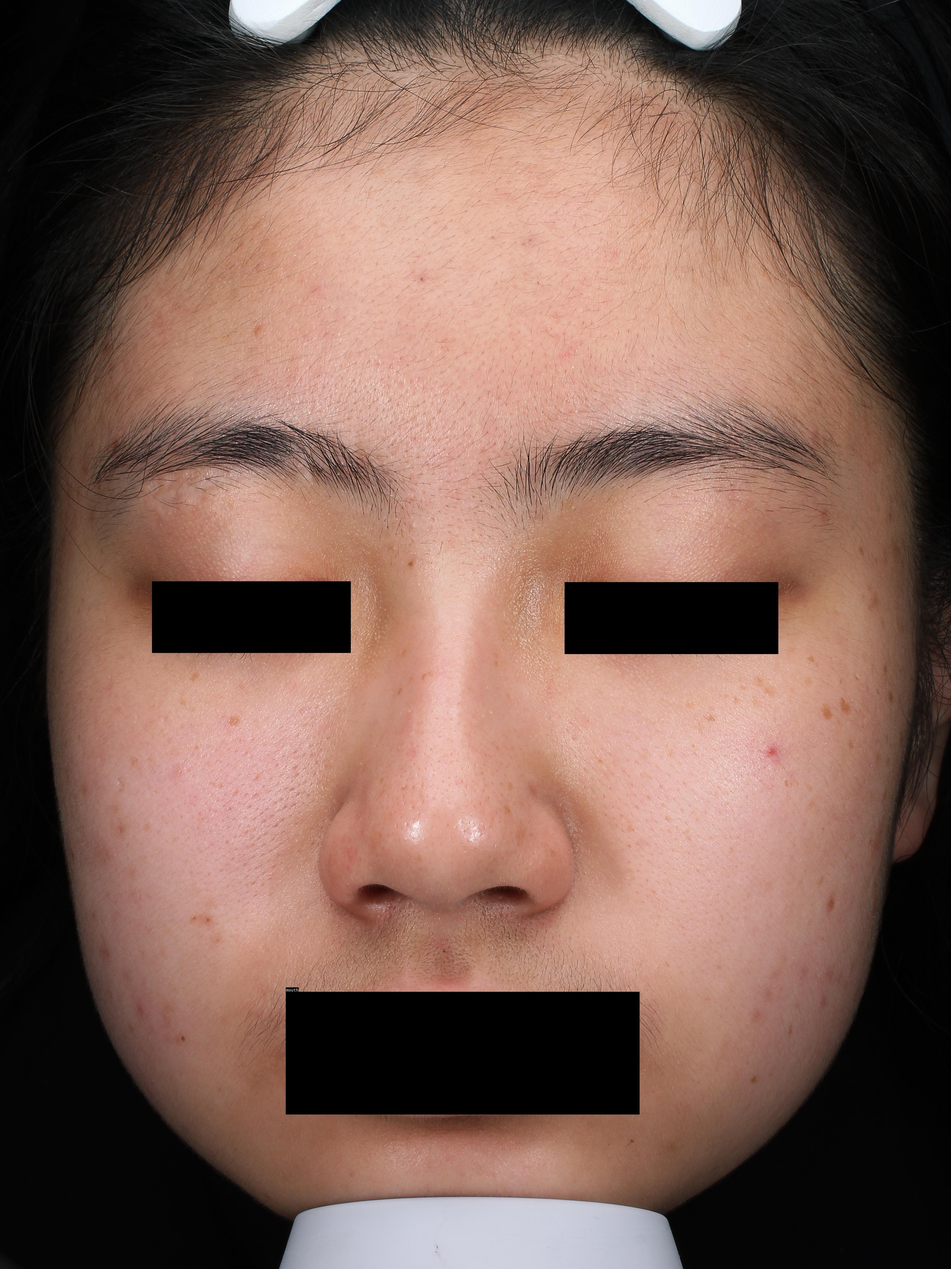atrophic_scar: (391, 438, 401, 456), (397, 377, 408, 389), (116, 778, 123, 791), (663, 815, 672, 825), (161, 714, 168, 722), (854, 673, 860, 681)
closed_comedo: (410, 522, 417, 528), (391, 545, 397, 551)
melasma: (838, 697, 853, 718), (226, 713, 243, 730), (820, 701, 834, 721), (514, 824, 527, 845), (528, 782, 541, 800), (761, 684, 775, 697), (753, 675, 765, 688), (189, 672, 202, 683), (803, 675, 814, 687), (421, 671, 434, 681), (847, 738, 856, 752), (804, 782, 815, 793), (129, 756, 139, 767), (504, 803, 513, 815), (506, 780, 514, 793), (705, 714, 716, 723), (806, 655, 816, 663), (888, 691, 894, 703), (733, 696, 741, 704), (407, 560, 414, 569), (858, 548, 865, 557), (178, 699, 187, 706), (883, 663, 888, 675), (739, 684, 747, 691), (397, 687, 402, 695), (494, 659, 498, 669), (875, 688, 880, 695), (840, 678, 843, 686)
nevus: (749, 1075, 758, 1084), (629, 1139, 636, 1144), (181, 1036, 186, 1043)
open_comedo: (418, 276, 426, 283), (527, 238, 532, 243), (490, 235, 496, 239)
other: (141, 462, 258, 502), (153, 484, 202, 513)
papule: (765, 745, 777, 757), (135, 1001, 146, 1014), (818, 995, 826, 1007), (877, 823, 883, 838)
